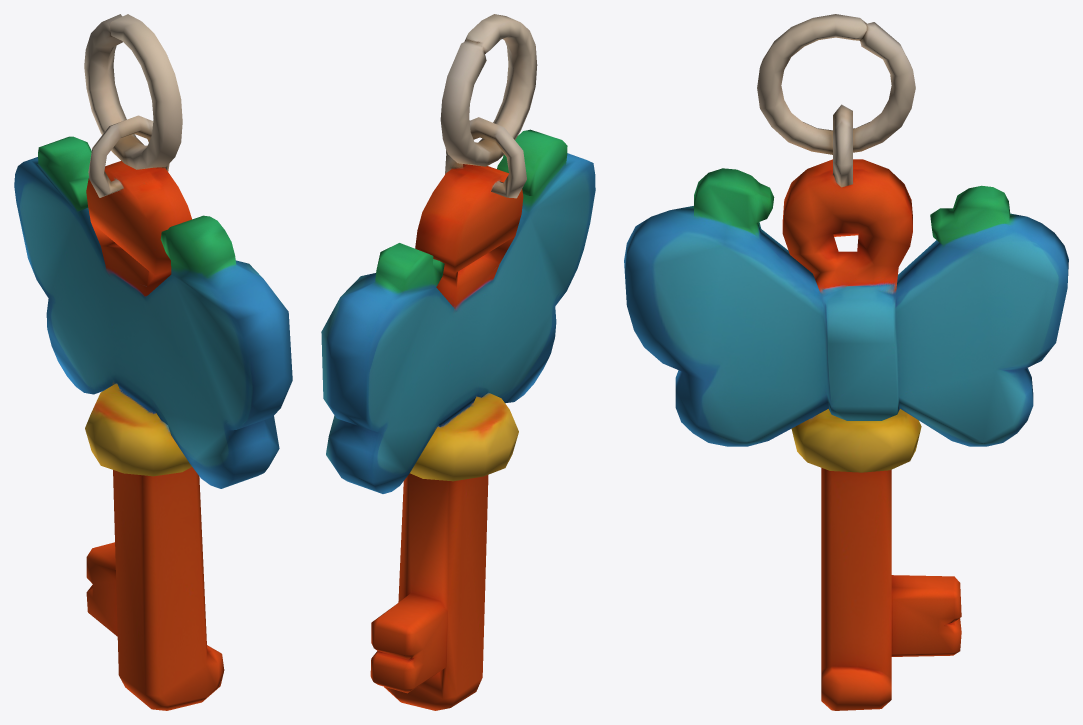
File: charm_chave.glb
3 views of the same model, side by side, from view 1: azimuth 30°, elevation 25°; view 2: azimuth 150°, elevation 25°; view 3: azimuth 270°, elevation 25° (orthographic). The views are drawn at different scales.
Visible parts, largest first — view 1: tripo_node_2f3b178c-c75f-4fd2-b688-32f68ca8d510; view 2: tripo_node_2f3b178c-c75f-4fd2-b688-32f68ca8d510; view 3: tripo_node_2f3b178c-c75f-4fd2-b688-32f68ca8d510.
Part boxes in pixels (x1,y1,x2,y2): tripo_node_2f3b178c-c75f-4fd2-b688-32f68ca8d510: (14,14,292,710); tripo_node_2f3b178c-c75f-4fd2-b688-32f68ca8d510: (321,14,595,710); tripo_node_2f3b178c-c75f-4fd2-b688-32f68ca8d510: (624,14,1068,710).
Bounding box in the file's own units: 0.2012 × 0.998 × 0.6074.
Materials: 1 (1 with a texture image).
